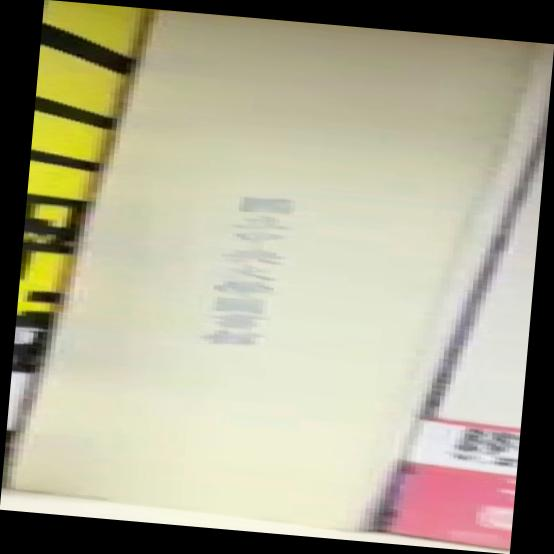backward: (1, 1, 550, 554)
